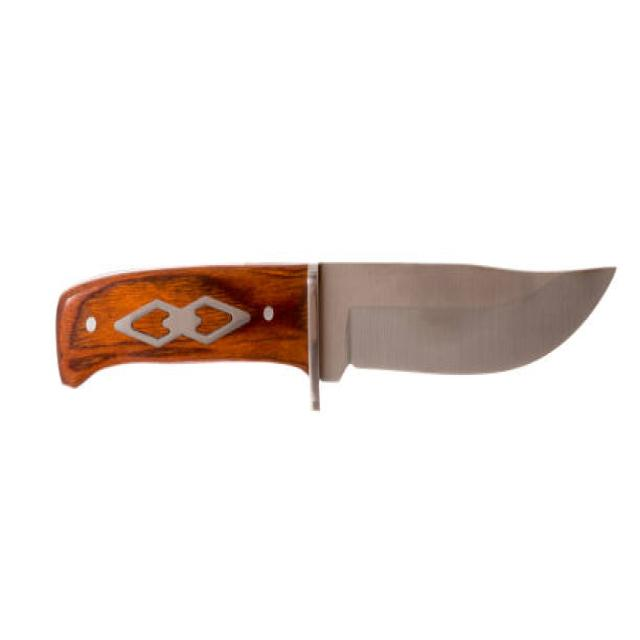knife: (56, 250, 619, 461)
